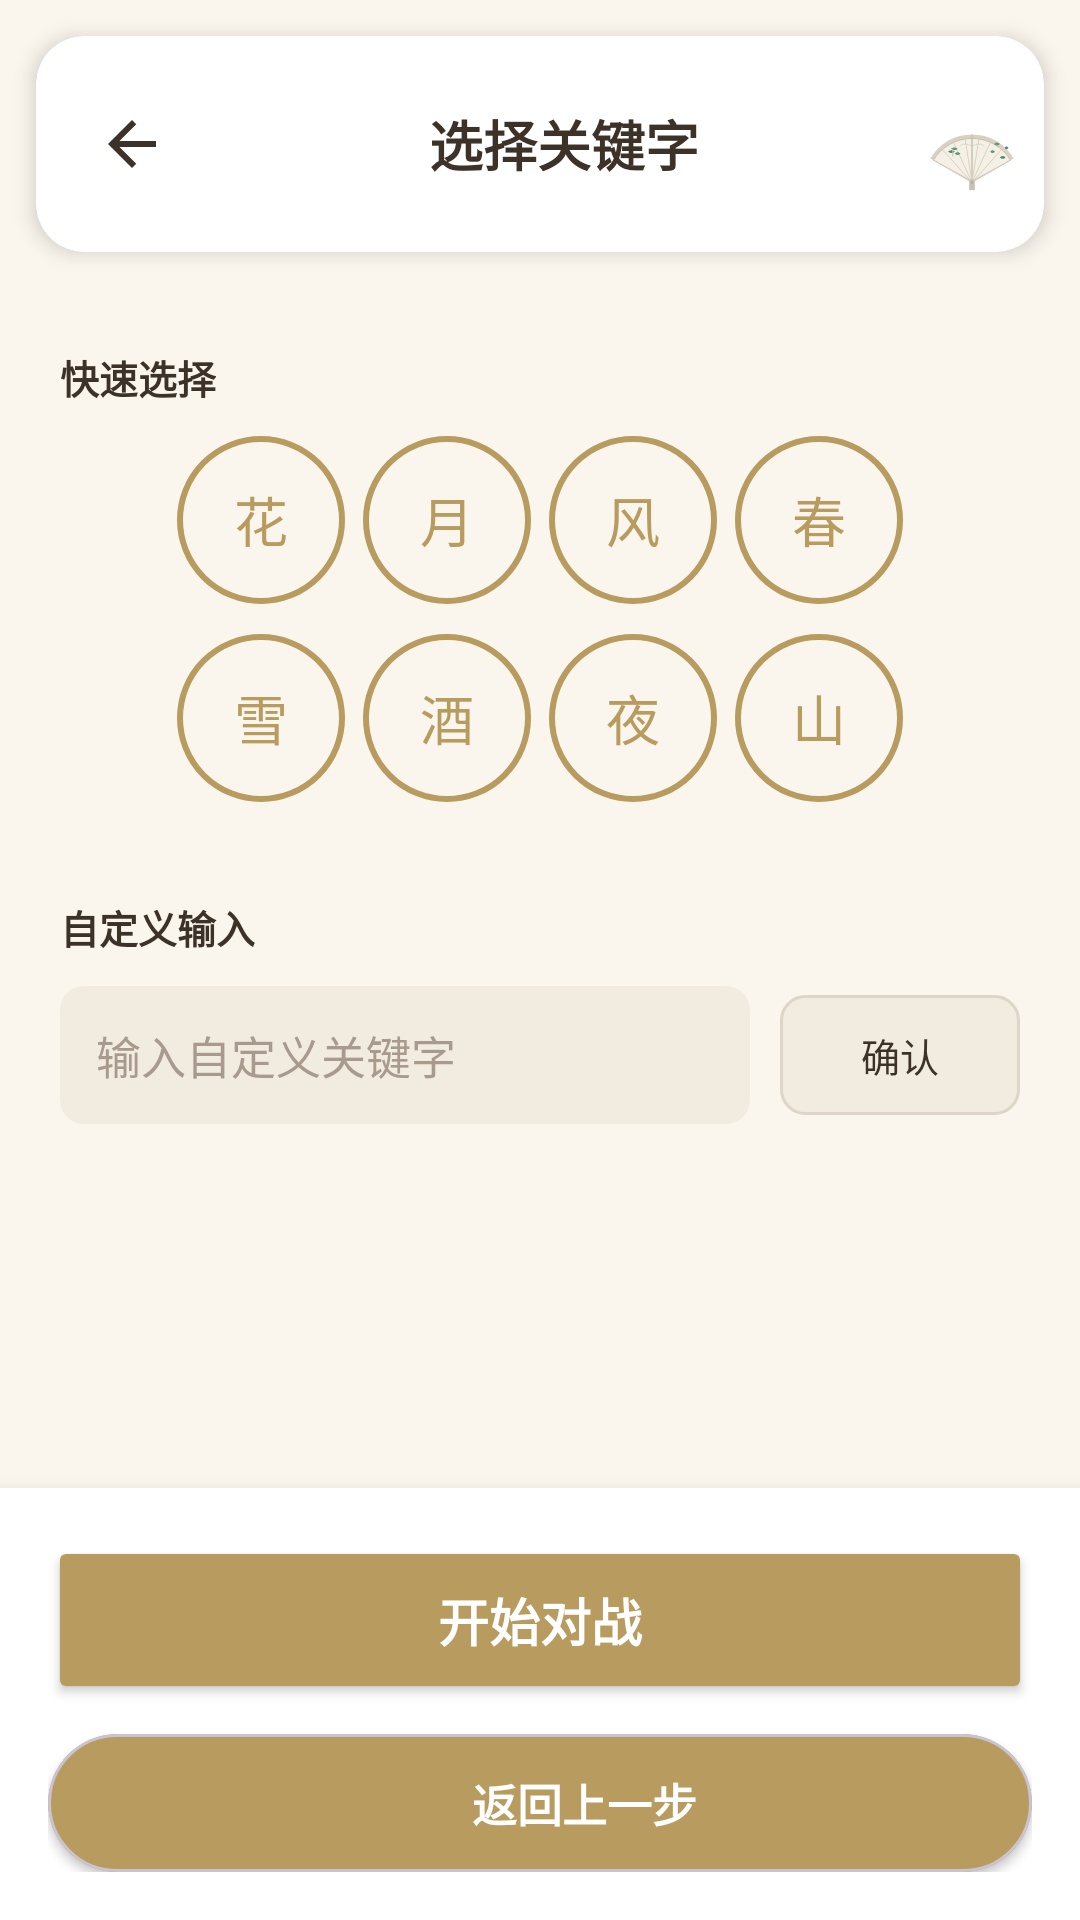

Icon bounding boxes for this 1080 × 1920 phone screenshot, format (x1=x1, y1=y1, x2=x2, y2=y2):
arrow back: (x1=108, y1=120, x2=156, y2=168)
